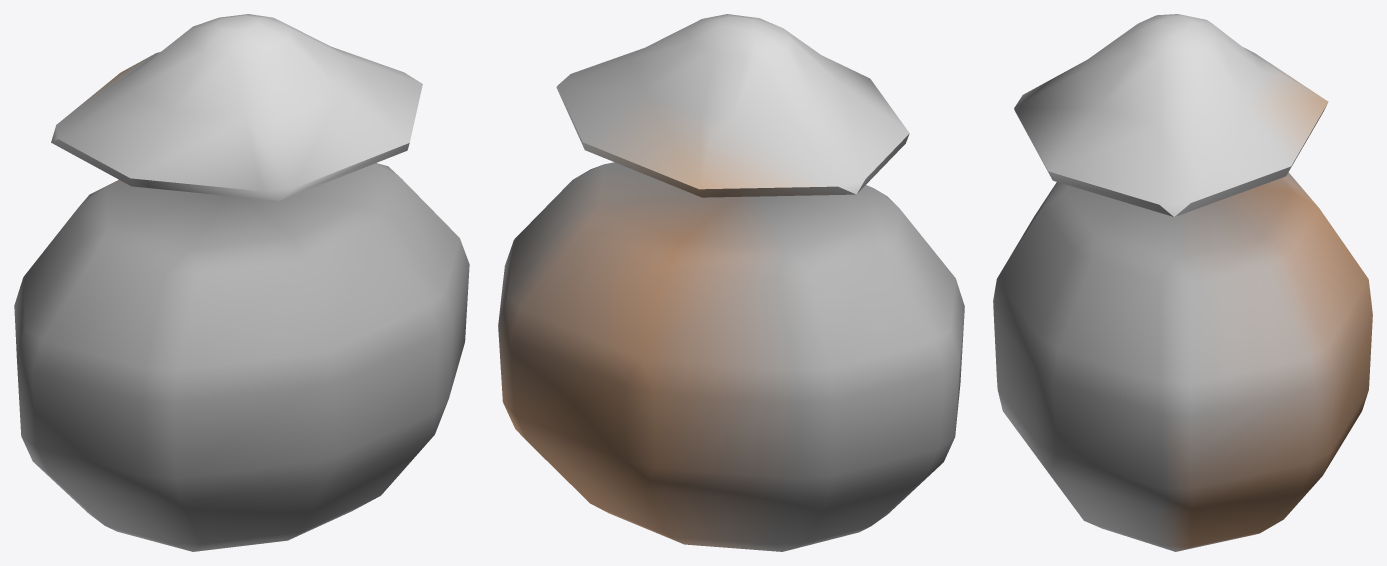
File: boulder_lichen_a.glb
3 renders of one model, left to right at view 1: azimuth 30°, elevation 25°; view 2: azimuth 150°, elevation 25°; view 3: azimuth 270°, elevation 25°, orthographic. The views are drawn at different scales.
Visible parts, largest first — view 1: BoulderLichen_A; view 2: BoulderLichen_A; view 3: BoulderLichen_A.
Part boxes in pixels (left/top/right/bottom): BoulderLichen_A: left=14, top=14, right=469, bottom=551; BoulderLichen_A: left=498, top=14, right=964, bottom=551; BoulderLichen_A: left=993, top=14, right=1372, bottom=551.
Bounding box in the file's own units: 1.16 × 1.28 × 0.8857.
